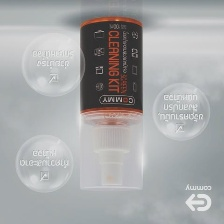cleaning_solution: (77, 13, 147, 193)
